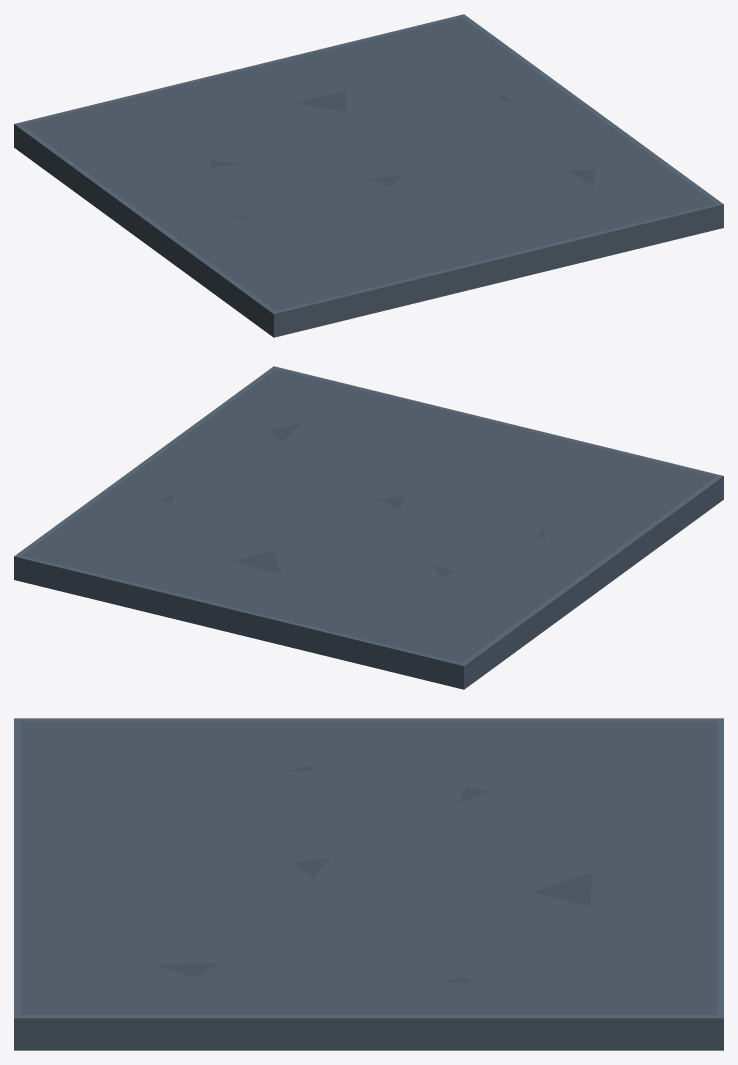
Rendered from ConcrateSlabs_C_1_3.obj.
3 views of the same model, one above another, from view 1: azimuth 30°, elevation 25°; view 2: azimuth 150°, elevation 25°; view 3: azimuth 270°, elevation 25° (orthographic). The views are drawn at different scales.
Parts seen in each view (by area): view 1: ConcrateSlabs_C_1_3; view 2: ConcrateSlabs_C_1_3; view 3: ConcrateSlabs_C_1_3.
Boxes of the visible parts, x1,y1,x2,y2 form: ConcrateSlabs_C_1_3: (14, 14, 723, 337); ConcrateSlabs_C_1_3: (14, 366, 723, 689); ConcrateSlabs_C_1_3: (14, 718, 723, 1050).
Bounding box in the file's own units: 8 × 0.4 × 8.
